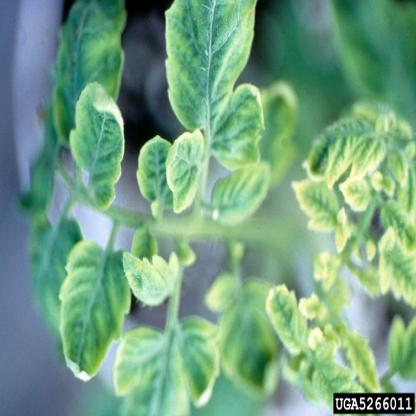tomato leaf yellow virus: (163, 3, 267, 128), (54, 242, 133, 388), (113, 315, 220, 408), (70, 85, 127, 211), (206, 68, 270, 173), (205, 163, 286, 227), (264, 274, 317, 368), (130, 134, 178, 228), (164, 131, 212, 215), (121, 240, 181, 306), (291, 174, 347, 237)
